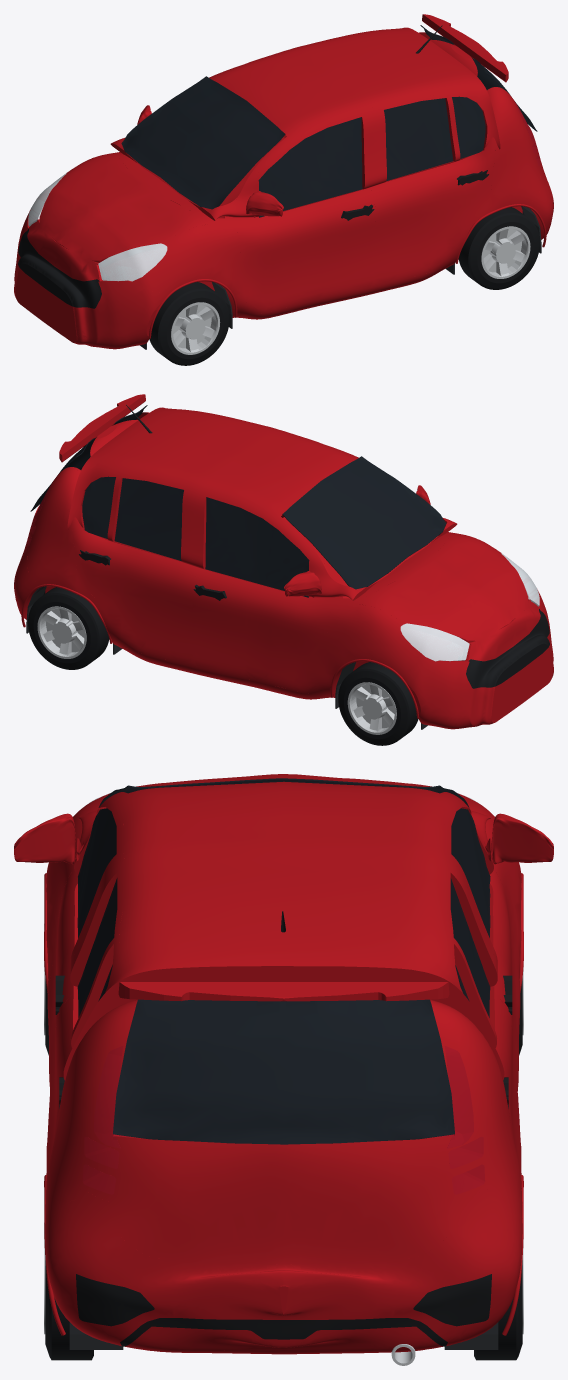
File: myvi_v2.glb
The picture shows the model from 3 angles, top to bottom: view 1: azimuth 30°, elevation 25°; view 2: azimuth 150°, elevation 25°; view 3: azimuth 270°, elevation 25°; orthographic projection. The views are drawn at different scales.
Visible parts, largest first — view 1: myvi_v2 (×6); view 2: myvi_v2 (×6); view 3: myvi_v2 (×6).
Boxes of the visible parts, x1,y1,x2,y2 form: myvi_v2 (×6): [14, 14, 553, 365]; myvi_v2 (×6): [14, 394, 553, 745]; myvi_v2 (×6): [14, 774, 553, 1365].
Size of the model in its own units: 4.54 by 2.05 by 2.29.
